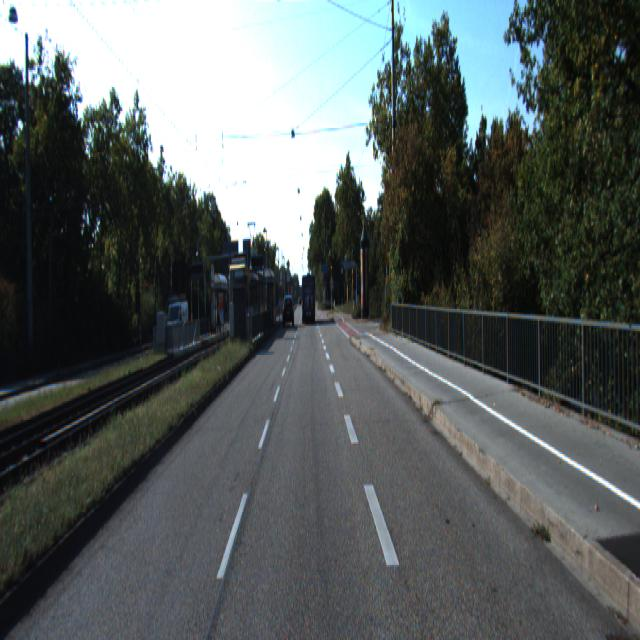Car: (227, 262, 264, 342), (166, 305, 189, 349), (302, 273, 316, 324), (283, 296, 294, 327)
